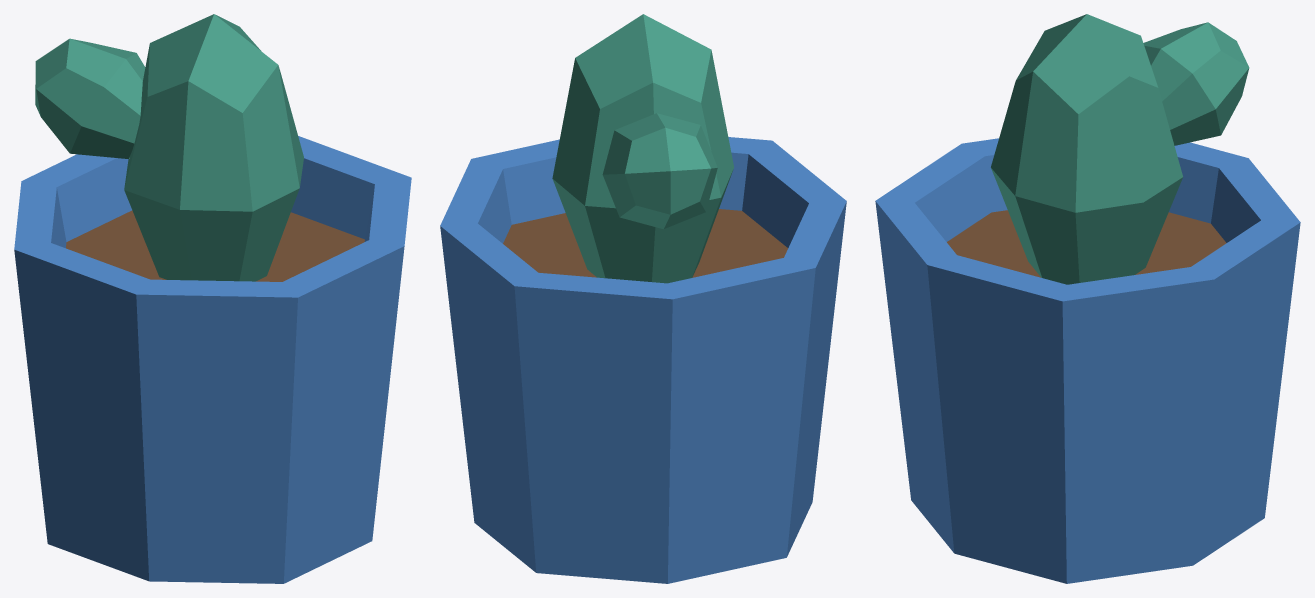
File: Cactus_1.fbx
3 views of the same model, side by side, from view 1: azimuth 30°, elevation 25°; view 2: azimuth 150°, elevation 25°; view 3: azimuth 270°, elevation 25° (orthographic).
Parts seen in each view (by area): view 1: Cactus_1; view 2: Cactus_1; view 3: Cactus_1.
Part boxes in pixels (x1,y1,x2,y2): Cactus_1: (14,14,411,583); Cactus_1: (440,14,846,583); Cactus_1: (875,14,1300,583).
Bounding box in the file's own units: 21.6 × 21.6 × 27.77.
